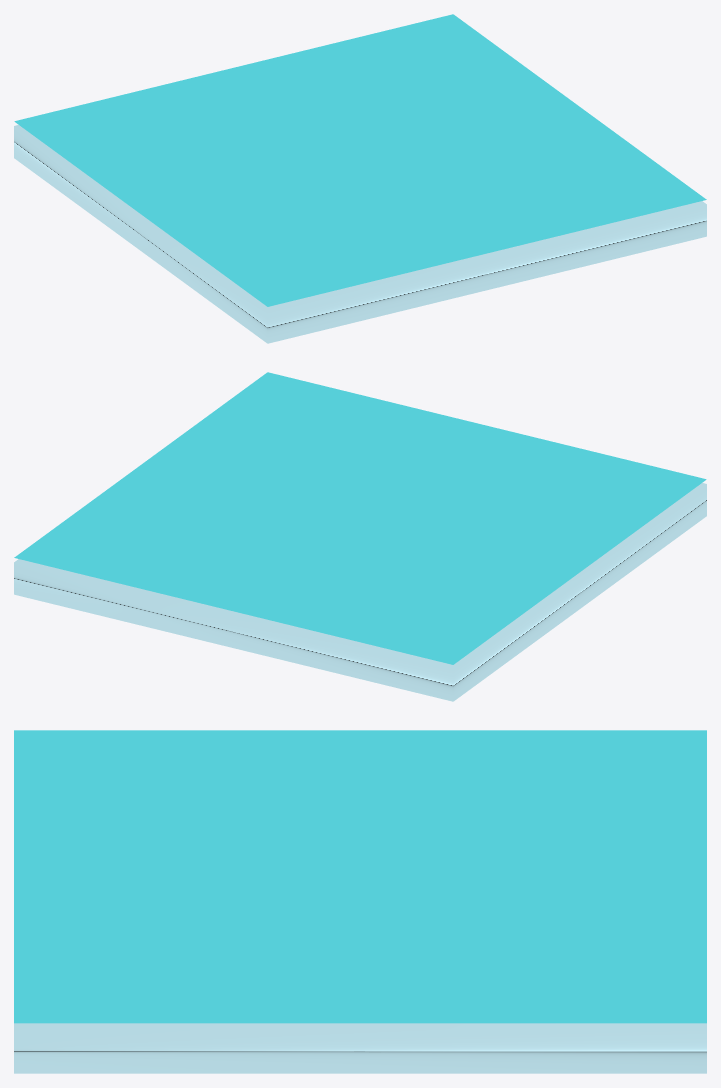
Rendered from water_pool.glb.
The picture shows the model from 3 angles, top to bottom: view 1: azimuth 30°, elevation 25°; view 2: azimuth 150°, elevation 25°; view 3: azimuth 270°, elevation 25°; orthographic projection. The views are drawn at different scales.
Visible parts, largest first — view 1: Water.001; view 2: Water.001; view 3: Water.001.
Boxes of the visible parts, x1,y1,x2,y2 form: Water.001: (14,14,706,343); Water.001: (14,372,706,701); Water.001: (14,730,706,1073).
Size of the model in its own units: 1 by 0.08 by 1.
